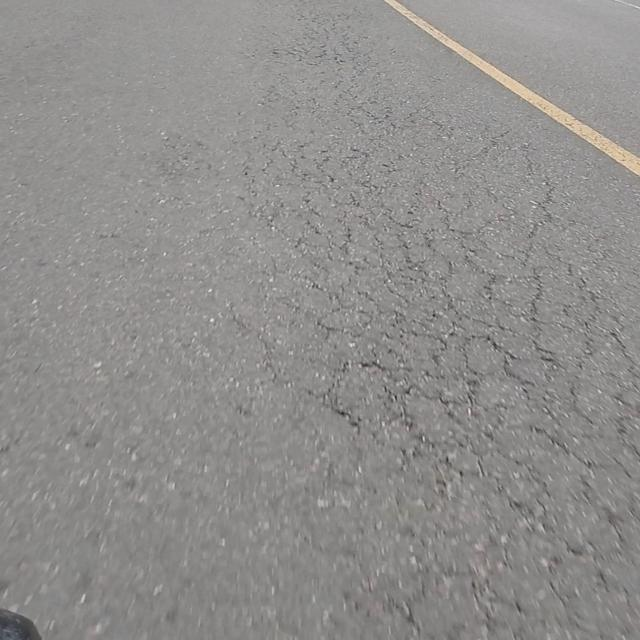Retak Buaya: (266, 61, 640, 579)
